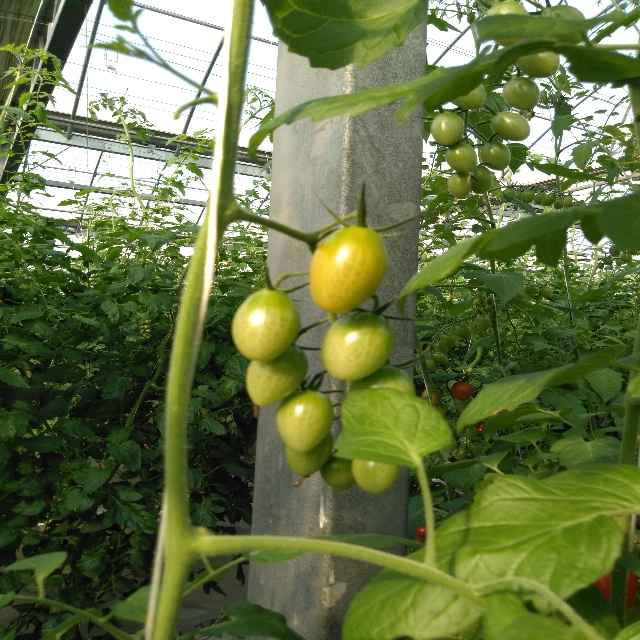l_green: (321, 311, 393, 382), (232, 289, 301, 362), (246, 344, 309, 406), (275, 389, 334, 454), (285, 430, 332, 477), (347, 365, 416, 397), (485, 2, 530, 47), (539, 5, 589, 45), (352, 459, 400, 496), (502, 76, 540, 111), (320, 456, 357, 491), (490, 112, 530, 142), (515, 52, 560, 78), (430, 112, 463, 146), (445, 142, 477, 173), (449, 84, 486, 110), (480, 141, 510, 171), (468, 164, 493, 195), (448, 171, 472, 200), (475, 313, 491, 330), (455, 324, 471, 340), (440, 333, 456, 347), (501, 187, 515, 203), (468, 442, 483, 456), (541, 193, 557, 206), (432, 352, 449, 364), (522, 189, 535, 204), (539, 286, 553, 299), (534, 191, 546, 205), (456, 448, 469, 460), (561, 194, 572, 207), (553, 196, 563, 210), (515, 191, 522, 201)
l_half_ripened: (310, 227, 387, 314), (451, 381, 472, 401), (422, 388, 442, 406)
